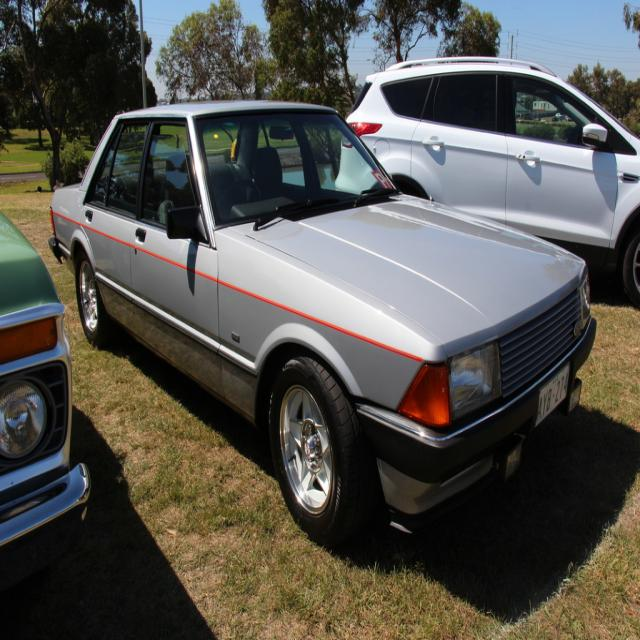car: (48, 102, 594, 533)
